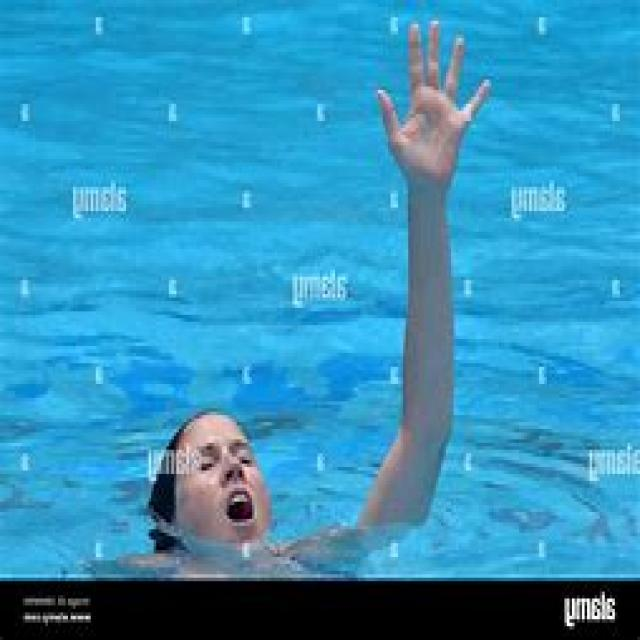drowning: (96, 0, 491, 574)
